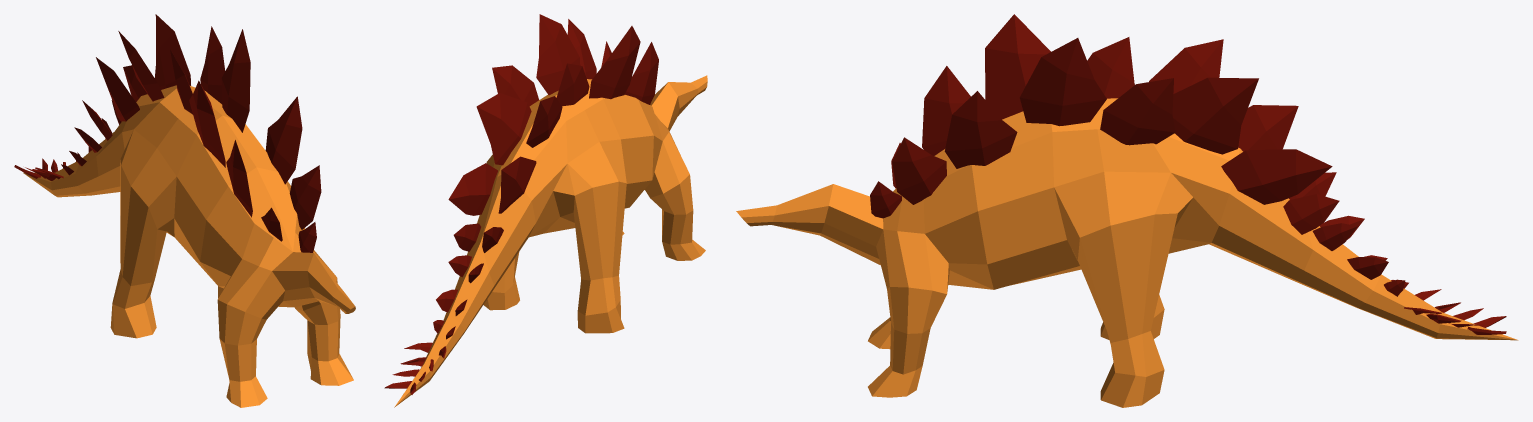
File: Magnus the Low poly Dino2.fbx
3 renders of one model, left to right at view 1: azimuth 30°, elevation 25°; view 2: azimuth 150°, elevation 25°; view 3: azimuth 270°, elevation 25°, orthographic. The views are drawn at different scales.
Visible parts, largest first — view 1: Dino magnus; view 2: Dino magnus; view 3: Dino magnus.
Part boxes in pixels (<box>): Dino magnus: <box>14,14,355,407</box>; Dino magnus: <box>384,14,707,407</box>; Dino magnus: <box>736,14,1518,407</box>.
Size of the model in its own units: 245 by 449 by 923.
